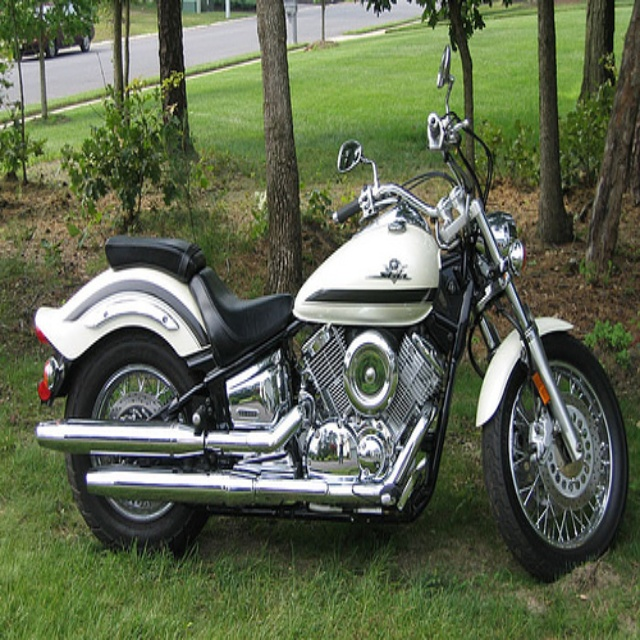Motorcycle: (35, 41, 628, 583)
